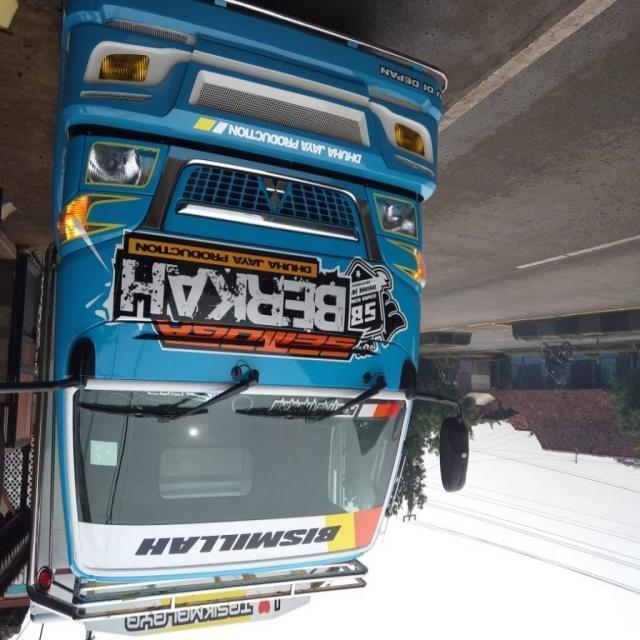truck: (1, 1, 470, 637)
